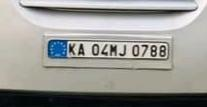0: (90, 42, 100, 57), (131, 43, 140, 57)
4: (100, 42, 109, 57)
7: (140, 44, 148, 59)
8: (158, 44, 168, 59), (150, 42, 158, 60)
A: (77, 41, 86, 58)
J: (118, 42, 128, 57)
K: (67, 41, 76, 57)
M: (110, 43, 118, 58)
